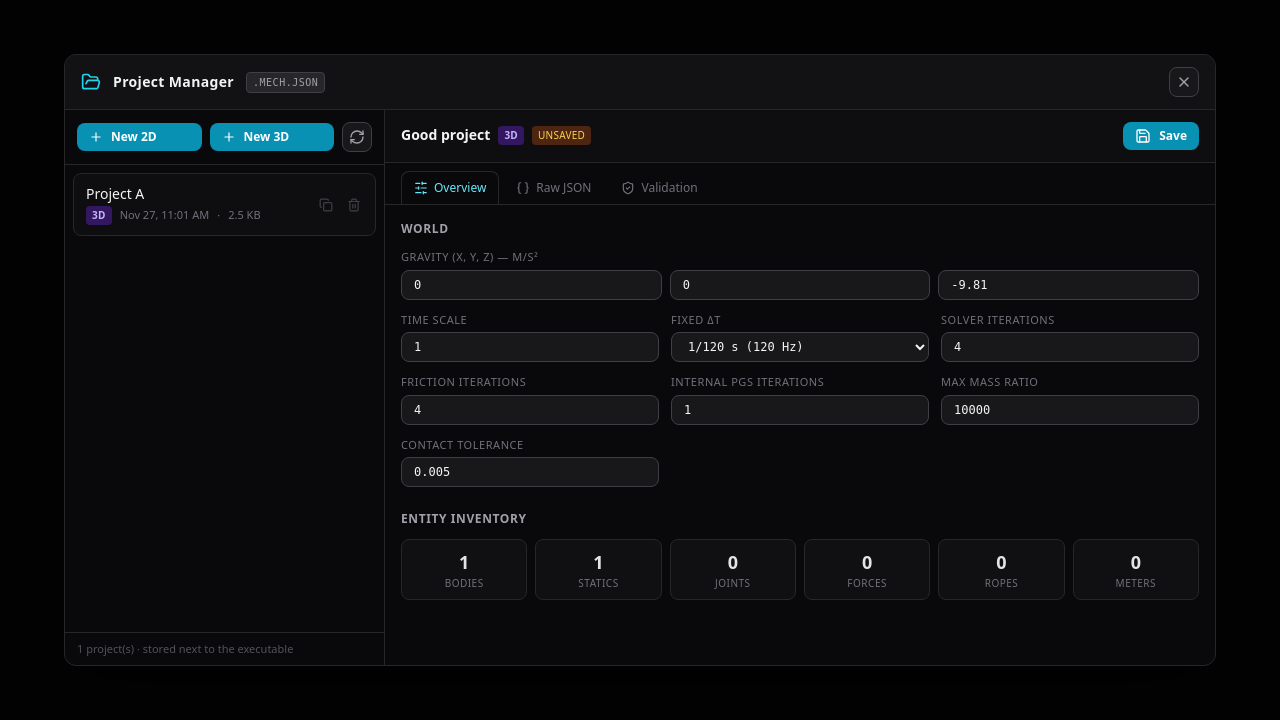
ProjectManager › duplicates a project through the backend
The width and height of the screenshot is (1280, 720).
expect the text "Project A" is shown: met, box [86,184,144,203]
What coordinates should you click on to do the following:
click the button named "Duplicate Project A"
I would click on:
 (326, 204)
Its box is [313,192,339,218].
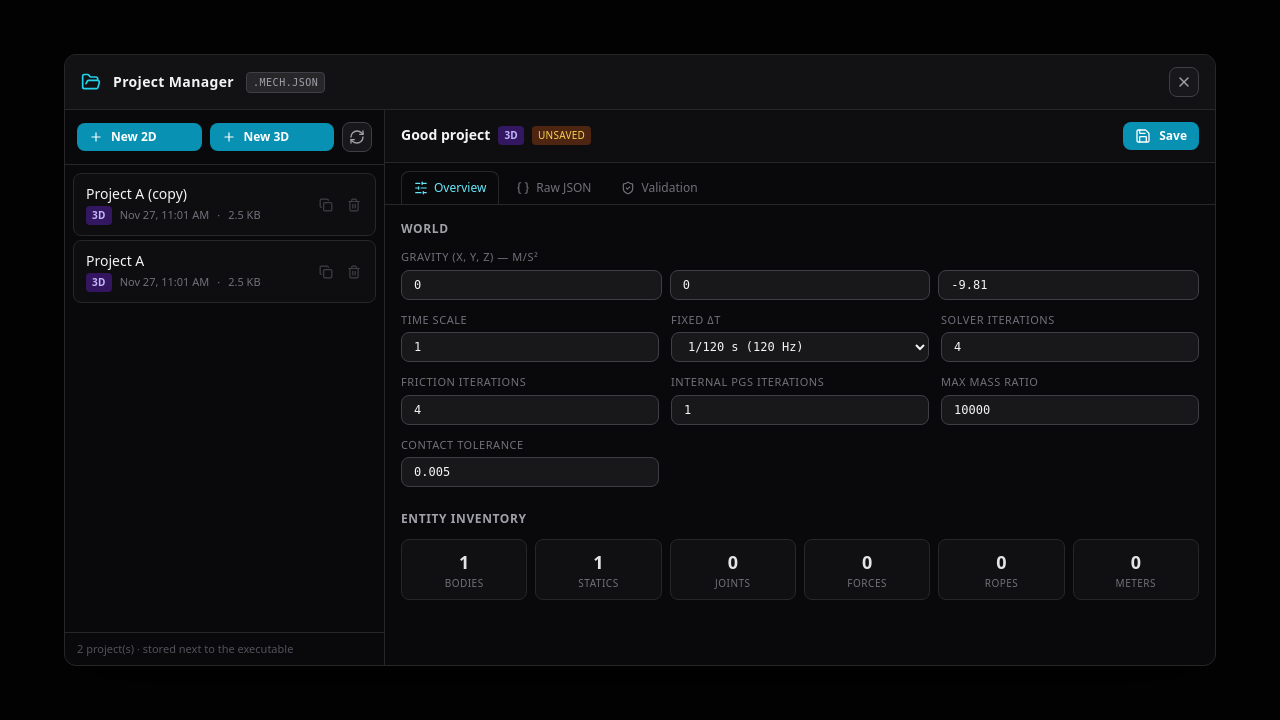
expect the text "Project A (copy)" is shown: met, box [86,184,187,203]
